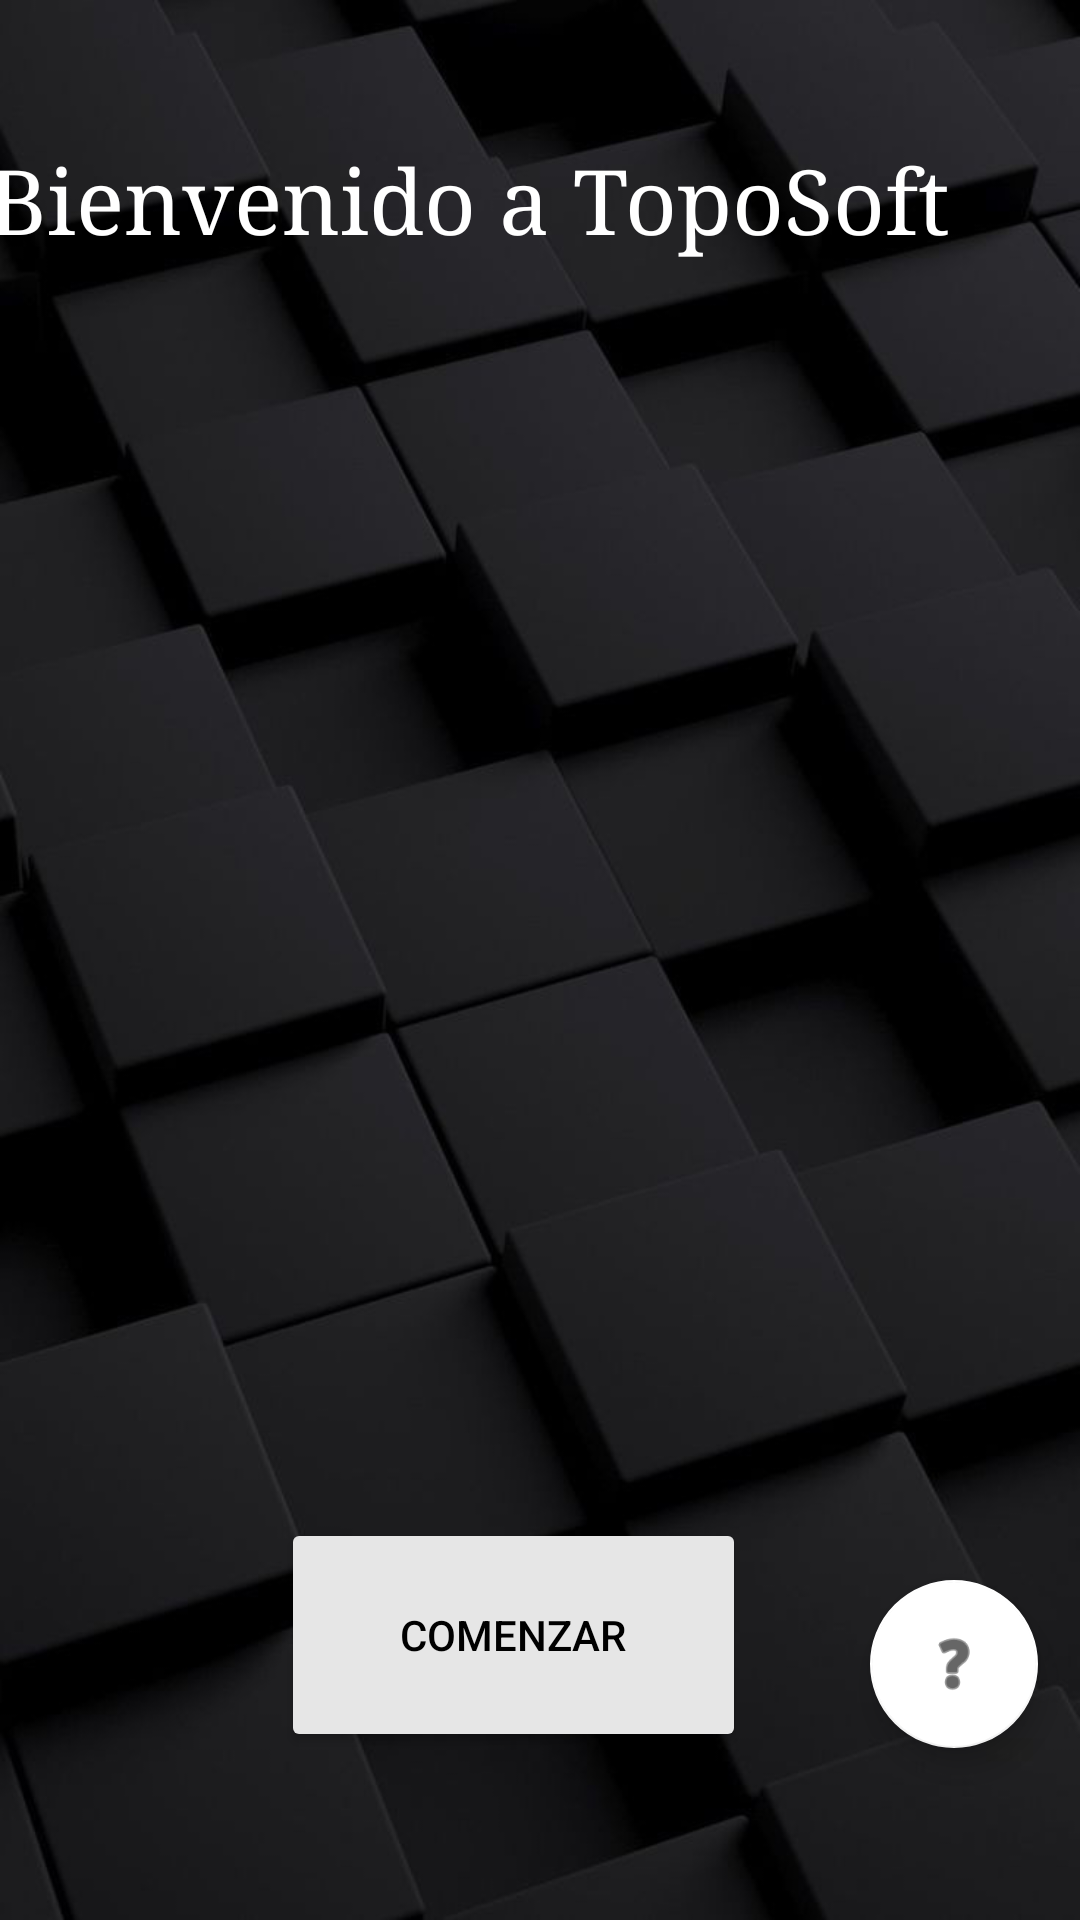

Screen size 1080px x 1920px. Icon name, then its box in pixels as (x1, y1, x2, y2):
help: (870, 1580, 1038, 1748)
